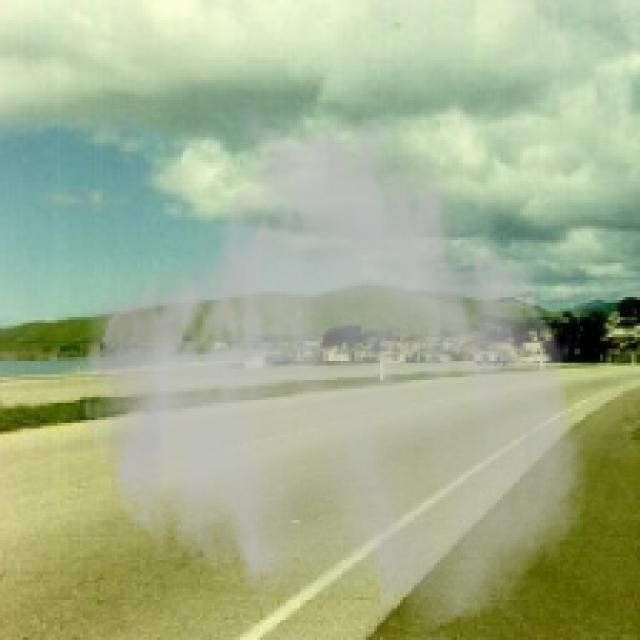smoke: (77, 97, 592, 632)
